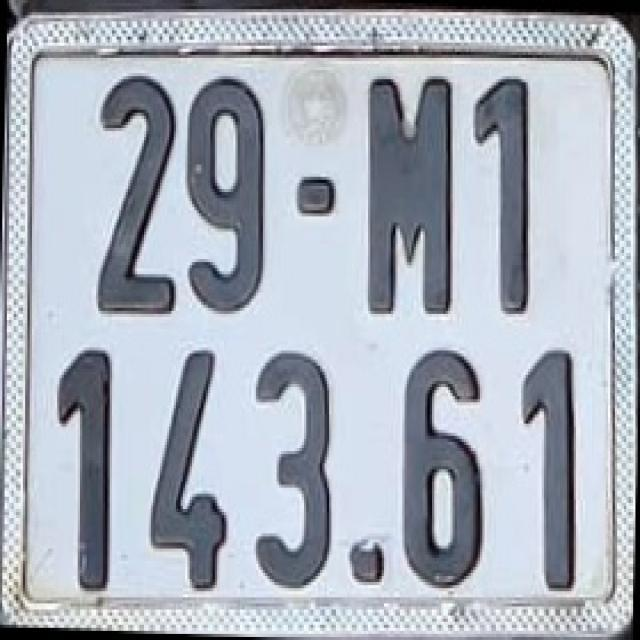1: (50, 342, 126, 592), (514, 342, 588, 594), (473, 70, 542, 317)
2: (84, 64, 183, 320)
3: (246, 342, 338, 592)
4: (142, 338, 231, 594)
6: (398, 338, 487, 588)
9: (183, 67, 274, 317)
M: (366, 62, 458, 330)
